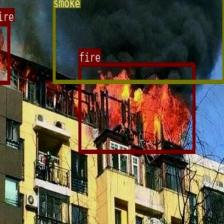fire: (78, 62, 195, 153), (0, 21, 9, 84)
smoke: (52, 0, 224, 83)
